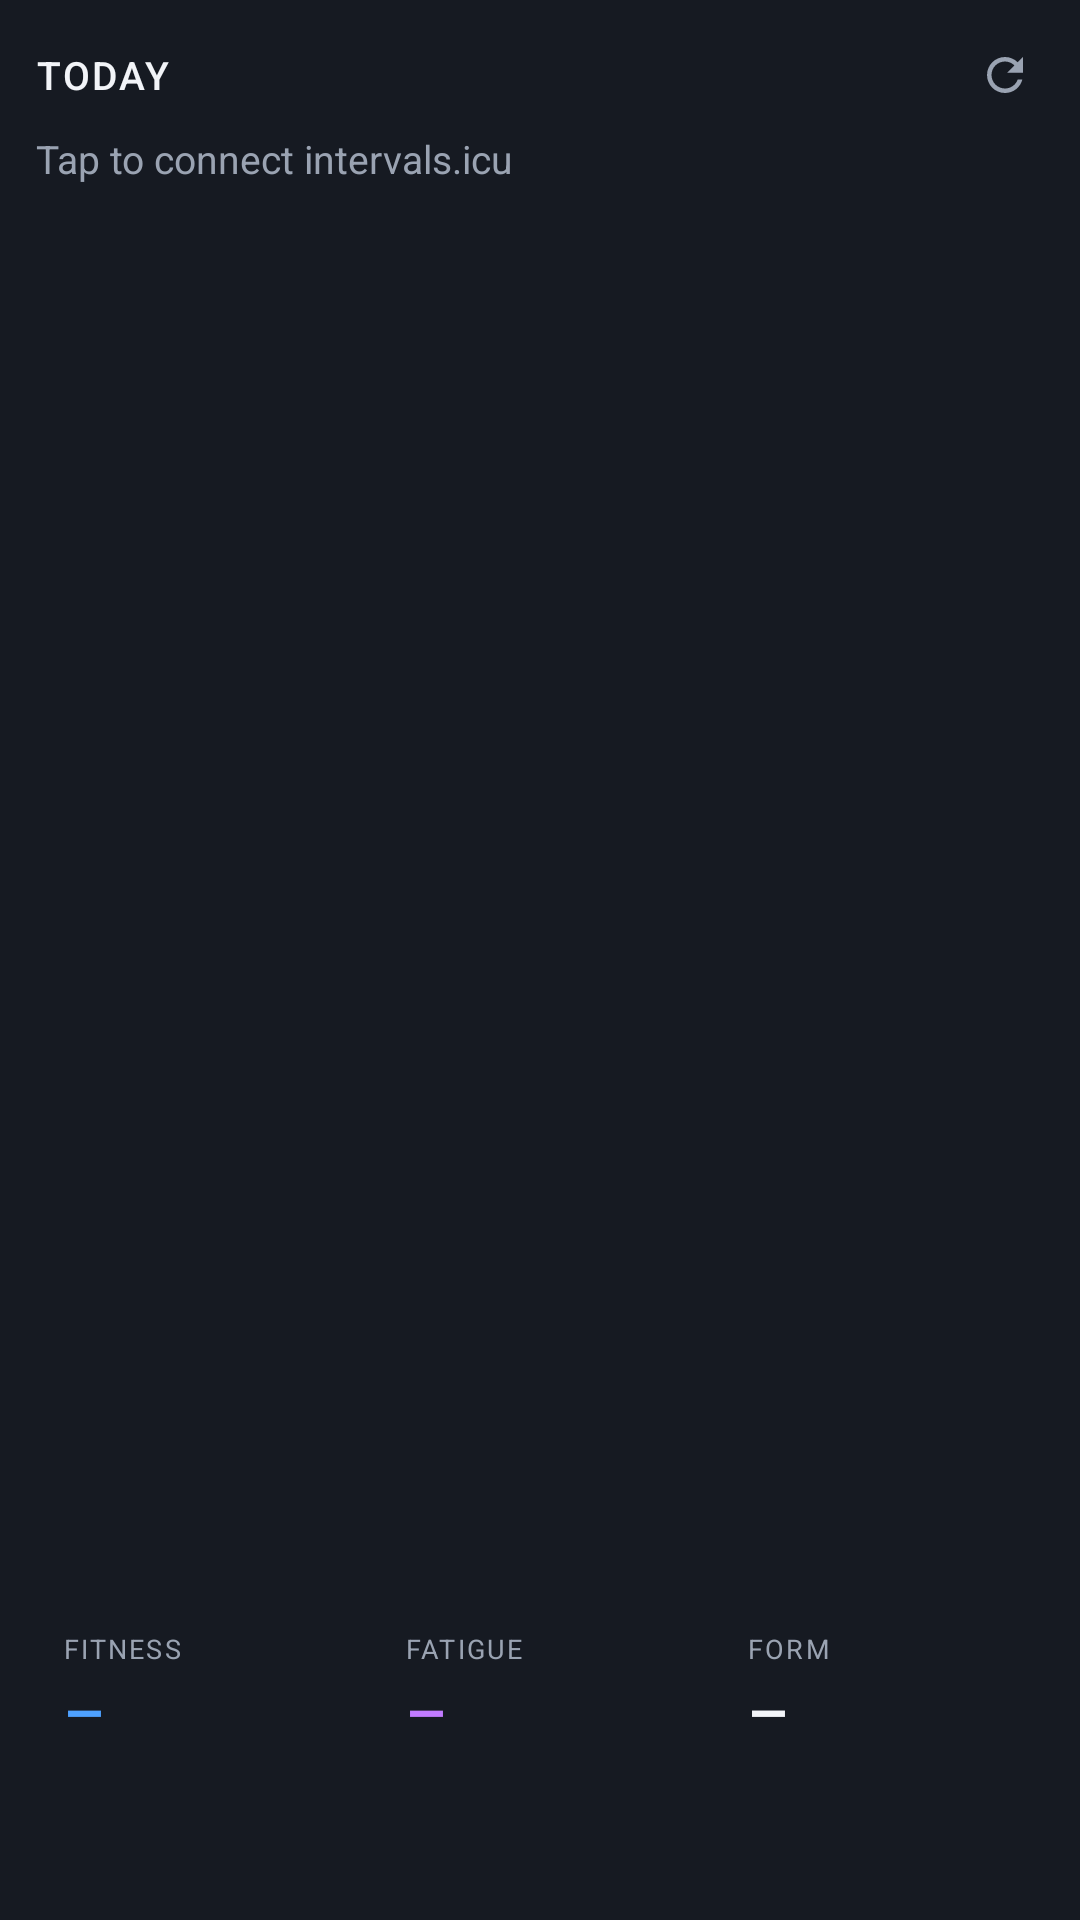

Where icons sit on this 1080 x 1920 app screen, as [x1, y1, x2, y2]:
Refresh: [987, 57, 1023, 93]
